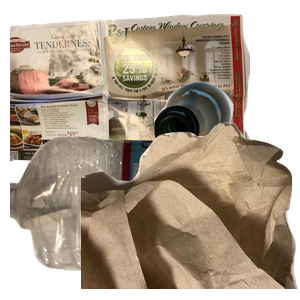glass: (151, 79, 300, 221)
paper: (10, 11, 250, 180)
plastic: (10, 134, 250, 300)
trash: (81, 120, 300, 300)
